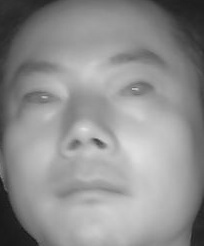eye: (25, 85, 63, 113), (113, 78, 156, 102)
mouth: (53, 169, 130, 210)
